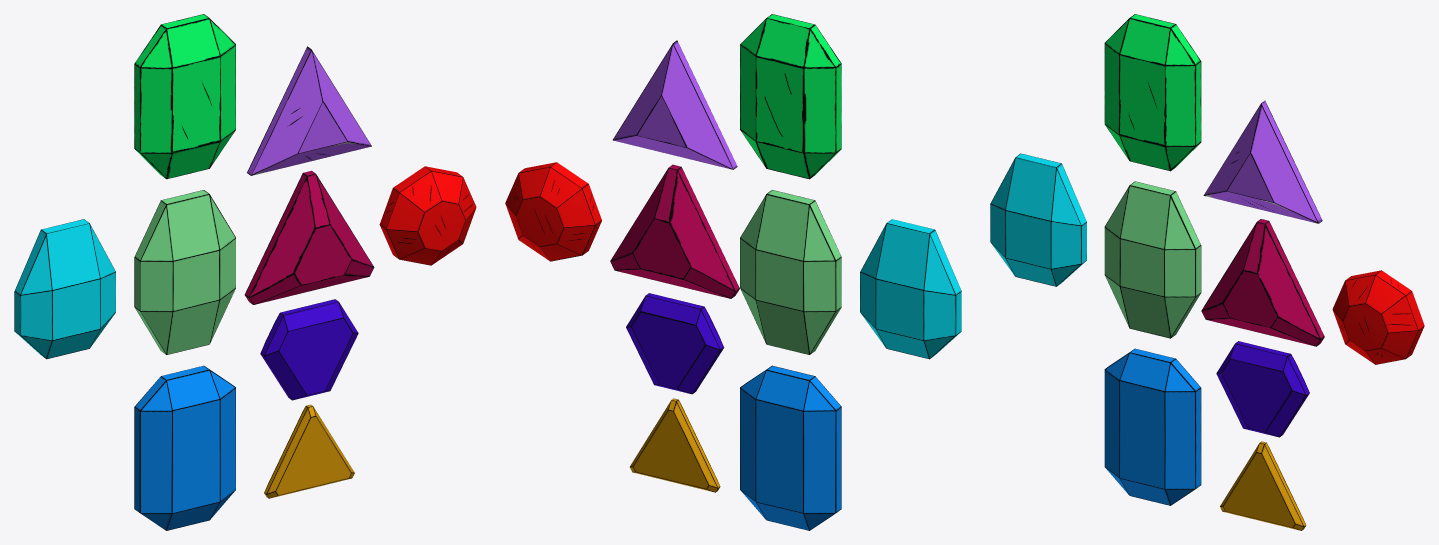
File: gems.fbx
3 renders of one model, left to right at view 1: azimuth 30°, elevation 25°; view 2: azimuth 150°, elevation 25°; view 3: azimuth 330°, elevation 25°, orthographic. The views are drawn at different scales.
Parts seen in each view (by area): view 1: emerald.002_8, emerald.001_7, emerald_2, diamond_9, triangle thick_5, triangle thick 2_6, gem 1:1_1, gem 2_4, triangle flat_3; view 2: emerald.002_8, emerald.001_7, emerald_2, diamond_9, triangle thick_5, triangle thick 2_6, gem 1:1_1, gem 2_4, triangle flat_3; view 3: emerald.002_8, emerald.001_7, emerald_2, diamond_9, triangle thick_5, triangle thick 2_6, gem 1:1_1, gem 2_4, triangle flat_3.
Part boxes in pixels (box(x1,y1,x2,y2)): emerald.002_8: box(134, 365, 235, 530); emerald.001_7: box(134, 14, 235, 179); emerald_2: box(134, 190, 235, 354); diamond_9: box(14, 219, 115, 359); triangle thick_5: box(244, 170, 374, 304); triangle thick 2_6: box(247, 46, 371, 175); gem 1:1_1: box(379, 166, 476, 265); gem 2_4: box(260, 299, 358, 400); triangle flat_3: box(264, 404, 354, 498); emerald.002_8: box(740, 365, 841, 530); emerald.001_7: box(740, 14, 841, 179); emerald_2: box(740, 190, 841, 354); diamond_9: box(860, 219, 961, 359); triangle thick_5: box(610, 164, 739, 298); triangle thick 2_6: box(613, 40, 737, 169); gem 1:1_1: box(505, 162, 601, 261); gem 2_4: box(626, 293, 724, 394); triangle flat_3: box(630, 398, 720, 492); emerald.002_8: box(1104, 348, 1201, 505); emerald.001_7: box(1104, 14, 1201, 171); emerald_2: box(1104, 181, 1201, 338); diamond_9: box(990, 153, 1086, 286); triangle thick_5: box(1201, 219, 1324, 346); triangle thick 2_6: box(1203, 100, 1322, 223); gem 1:1_1: box(1332, 270, 1424, 364); gem 2_4: box(1216, 341, 1309, 437); triangle flat_3: box(1220, 441, 1306, 530).
Bounding box in the file's own units: 1889 × 2000 × 207.
9 materials, 9 textured.
